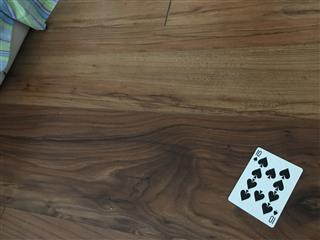TenOfSpades: (226, 145, 303, 228)
